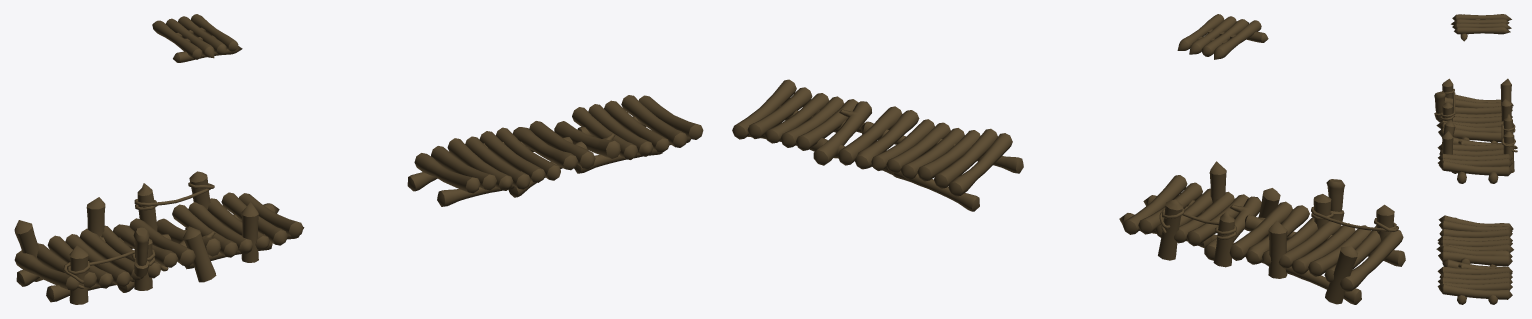
File: Foreground Walkways.fbx
The picture shows the model from 3 angles, left to right: view 1: azimuth 30°, elevation 25°; view 2: azimuth 150°, elevation 25°; view 3: azimuth 270°, elevation 25°; orthographic projection. The views are drawn at different scales.
Visible parts, largest first — view 1: floor_logs_geo1, floor_logs_geo, side_logs_geo, mammoth_head_platform_geo, base_logs_geo1, base_logs_geo, rope_geo, rope_geo1; view 2: floor_logs_geo1, floor_logs_geo, side_logs_geo, mammoth_head_platform_geo, base_logs_geo1, base_logs_geo, rope_geo1, rope_geo; view 3: floor_logs_geo1, floor_logs_geo, side_logs_geo, mammoth_head_platform_geo, base_logs_geo, base_logs_geo1, rope_geo1, rope_geo.
Boxes of the visible parts, x1,y1,x2,y2 form: floor_logs_geo1: (414,95,703,193); floor_logs_geo: (14,192,303,290); side_logs_geo: (14,171,258,304); mammoth_head_platform_geo: (152,14,242,62); base_logs_geo1: (407,116,690,206); base_logs_geo: (16,203,304,302); rope_geo: (63,249,155,288); rope_geo1: (134,182,214,210); floor_logs_geo1: (732,79,1012,196); floor_logs_geo: (1123,175,1403,291); side_logs_geo: (1158,161,1394,304); mammoth_head_platform_geo: (1177,14,1268,59); base_logs_geo1: (747,106,1023,211); base_logs_geo: (1119,195,1405,304); rope_geo1: (1159,208,1236,239); rope_geo: (1311,206,1398,232); floor_logs_geo1: (1436,215,1513,299); floor_logs_geo: (1436,94,1513,176); side_logs_geo: (1434,78,1514,172); mammoth_head_platform_geo: (1451,14,1511,41); base_logs_geo: (1452,136,1498,183); base_logs_geo1: (1455,217,1497,304); rope_geo1: (1501,123,1517,152); rope_geo: (1440,88,1455,120).
Size of the model in its own units: 39.76 by 13.43 by 6.94.
